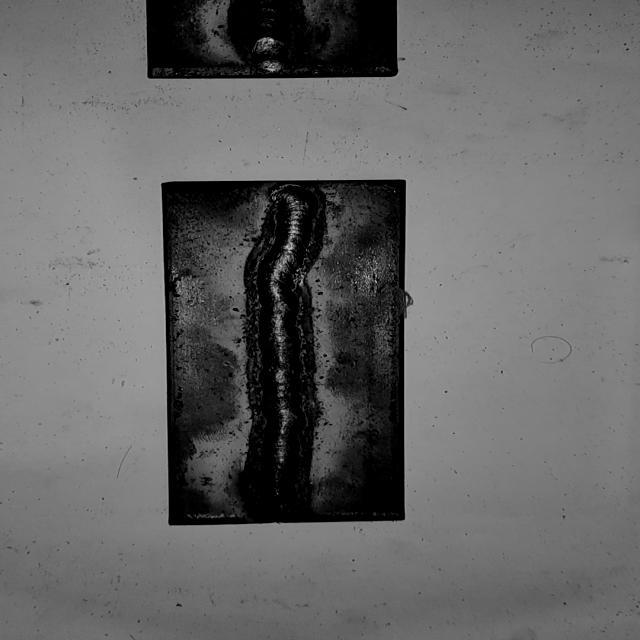Welding Line: (254, 186, 322, 521), (240, 0, 296, 72)
Workpiece: (153, 173, 423, 529), (141, 0, 408, 82)
